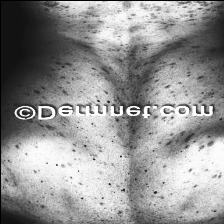Non-Cancerous Skin Condition: (36, 124, 140, 193), (41, 0, 59, 8), (184, 132, 192, 142), (176, 0, 190, 4)
